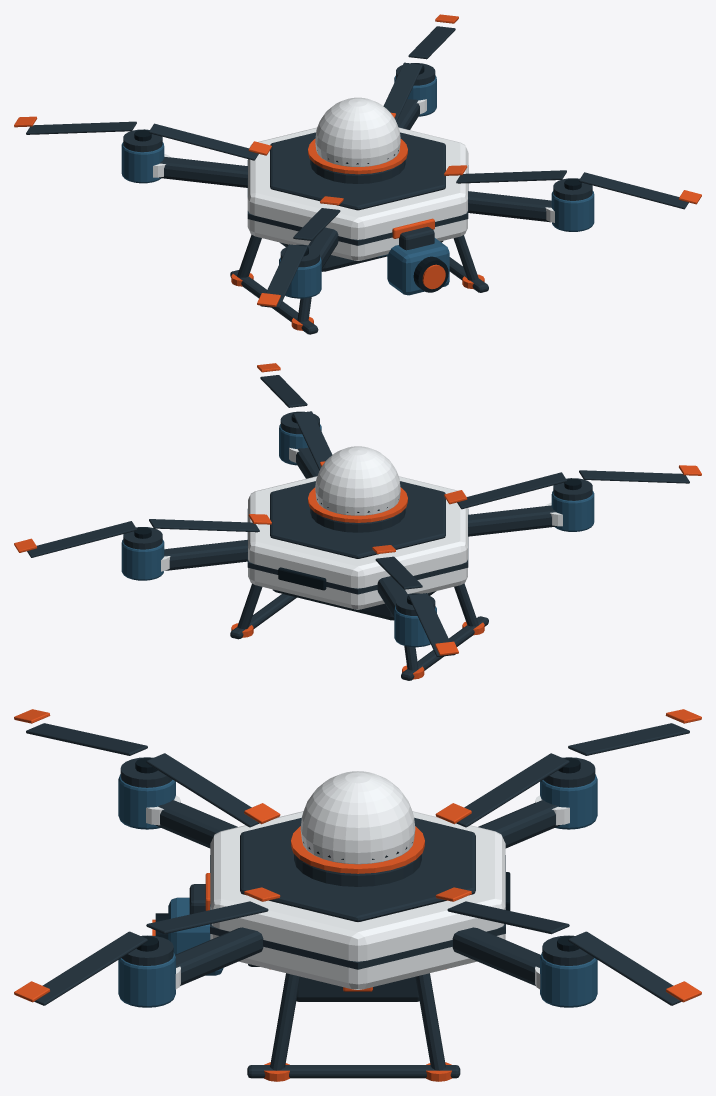
The model's file is aether_x4_draco.glb.
3 views of the same model, one above another, from view 1: azimuth 30°, elevation 25°; view 2: azimuth 150°, elevation 25°; view 3: azimuth 270°, elevation 25° (orthographic). The views are drawn at different scales.
Parts seen in each view (by area): view 1: L3_Propulsion, L1_Perception, L4_Energy; view 2: L3_Propulsion, L1_Perception, L4_Energy; view 3: L3_Propulsion, L1_Perception, L4_Energy.
Part boxes in pixels (left/top/right/bottom): L3_Propulsion: left=14, top=14, right=701, bottom=308; L1_Perception: left=308, top=97, right=449, bottom=295; L4_Energy: left=230, top=234, right=488, bottom=334; L3_Propulsion: left=14, top=363, right=701, bottom=656; L1_Perception: left=308, top=446, right=407, bottom=532; L4_Energy: left=230, top=583, right=488, bottom=680; L3_Propulsion: left=14, top=709, right=701, bottom=1007; L1_Perception: left=152, top=771, right=424, bottom=975; L4_Energy: left=247, top=964, right=460, bottom=1081.
Size of the model in its own units: 0.323 by 0.1265 by 0.323.
